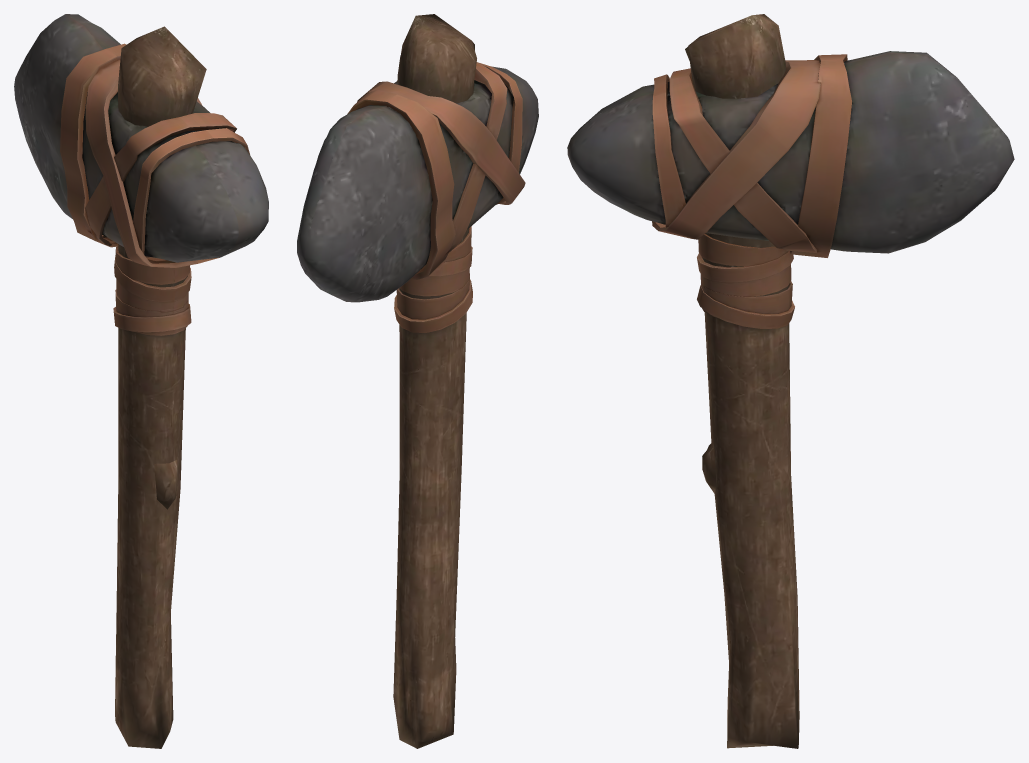
Rendered from tool-stoneHatchet.glb.
3 renders of one model, left to right at view 1: azimuth 30°, elevation 25°; view 2: azimuth 150°, elevation 25°; view 3: azimuth 270°, elevation 25°, orthographic. The views are drawn at different scales.
Parts seen in each view (by area): view 1: wood_low, flint_low, rope2_low, rope1_low, rope3_low, rope4_low, rope5_low, rope9_low, rope6_low, rope7_low, rope8_low; view 2: wood_low, flint_low, rope1_low, rope2_low, rope3_low, rope8_low, rope9_low, rope4_low, rope7_low, rope6_low, rope5_low; view 3: flint_low, wood_low, rope2_low, rope1_low, rope3_low, rope4_low, rope5_low, rope9_low, rope6_low, rope8_low, rope7_low.
Part boxes in pixels (x1,y1,x2,y2): wood_low: [115, 26, 206, 748]; flint_low: [14, 14, 268, 262]; rope2_low: [85, 59, 219, 267]; rope1_low: [60, 43, 126, 247]; rope3_low: [85, 113, 236, 246]; rope4_low: [133, 128, 249, 263]; rope5_low: [115, 245, 189, 284]; rope9_low: [113, 304, 191, 332]; rope6_low: [114, 255, 191, 302]; rope7_low: [116, 279, 188, 312]; rope8_low: [115, 289, 188, 335]; wood_low: [393, 14, 476, 748]; flint_low: [297, 66, 538, 302]; rope1_low: [347, 89, 455, 279]; rope2_low: [357, 81, 525, 204]; rope3_low: [397, 62, 507, 274]; rope8_low: [396, 273, 469, 319]; rope9_low: [394, 279, 472, 332]; rope4_low: [477, 62, 522, 204]; rope7_low: [400, 267, 469, 296]; rope6_low: [429, 246, 472, 276]; rope5_low: [442, 226, 471, 262]; flint_low: [567, 51, 1014, 253]; wood_low: [685, 14, 799, 748]; rope2_low: [652, 60, 820, 239]; rope1_low: [790, 54, 851, 257]; rope3_low: [669, 68, 817, 252]; rope4_low: [652, 74, 685, 227]; rope5_low: [698, 234, 788, 266]; rope9_low: [697, 285, 794, 328]; rope6_low: [697, 250, 793, 282]; rope8_low: [701, 281, 792, 317]; rope7_low: [700, 264, 791, 296].
Bounding box in the file's own units: 37.01 × 220 × 120.
Materials: 1 (1 with a texture image).
